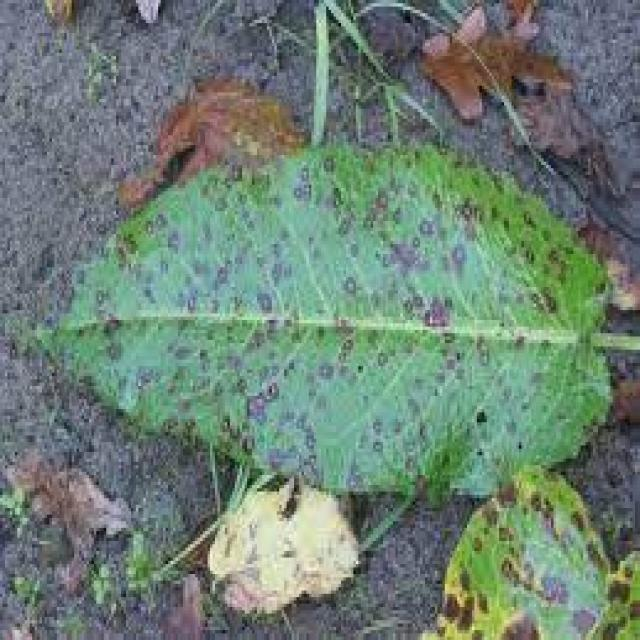black-spot: (277, 157, 545, 350)
